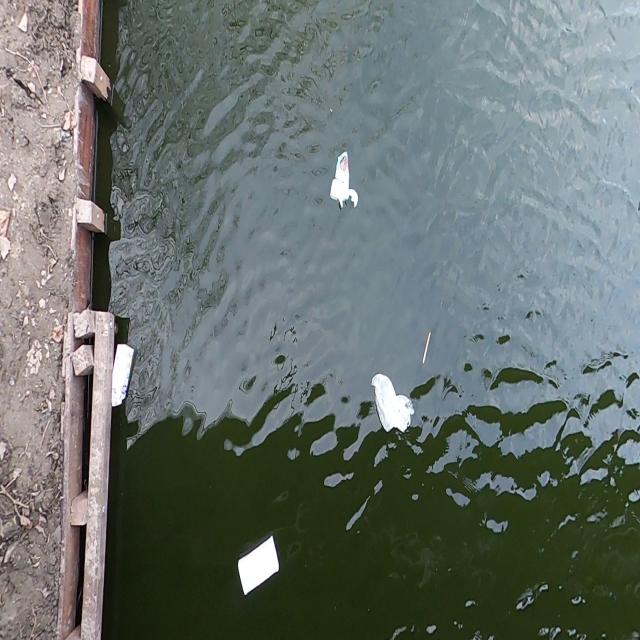Autre plastique: (233, 530, 284, 604)
Non plastique: (110, 340, 136, 412)
Sac plastique: (370, 369, 414, 442)
